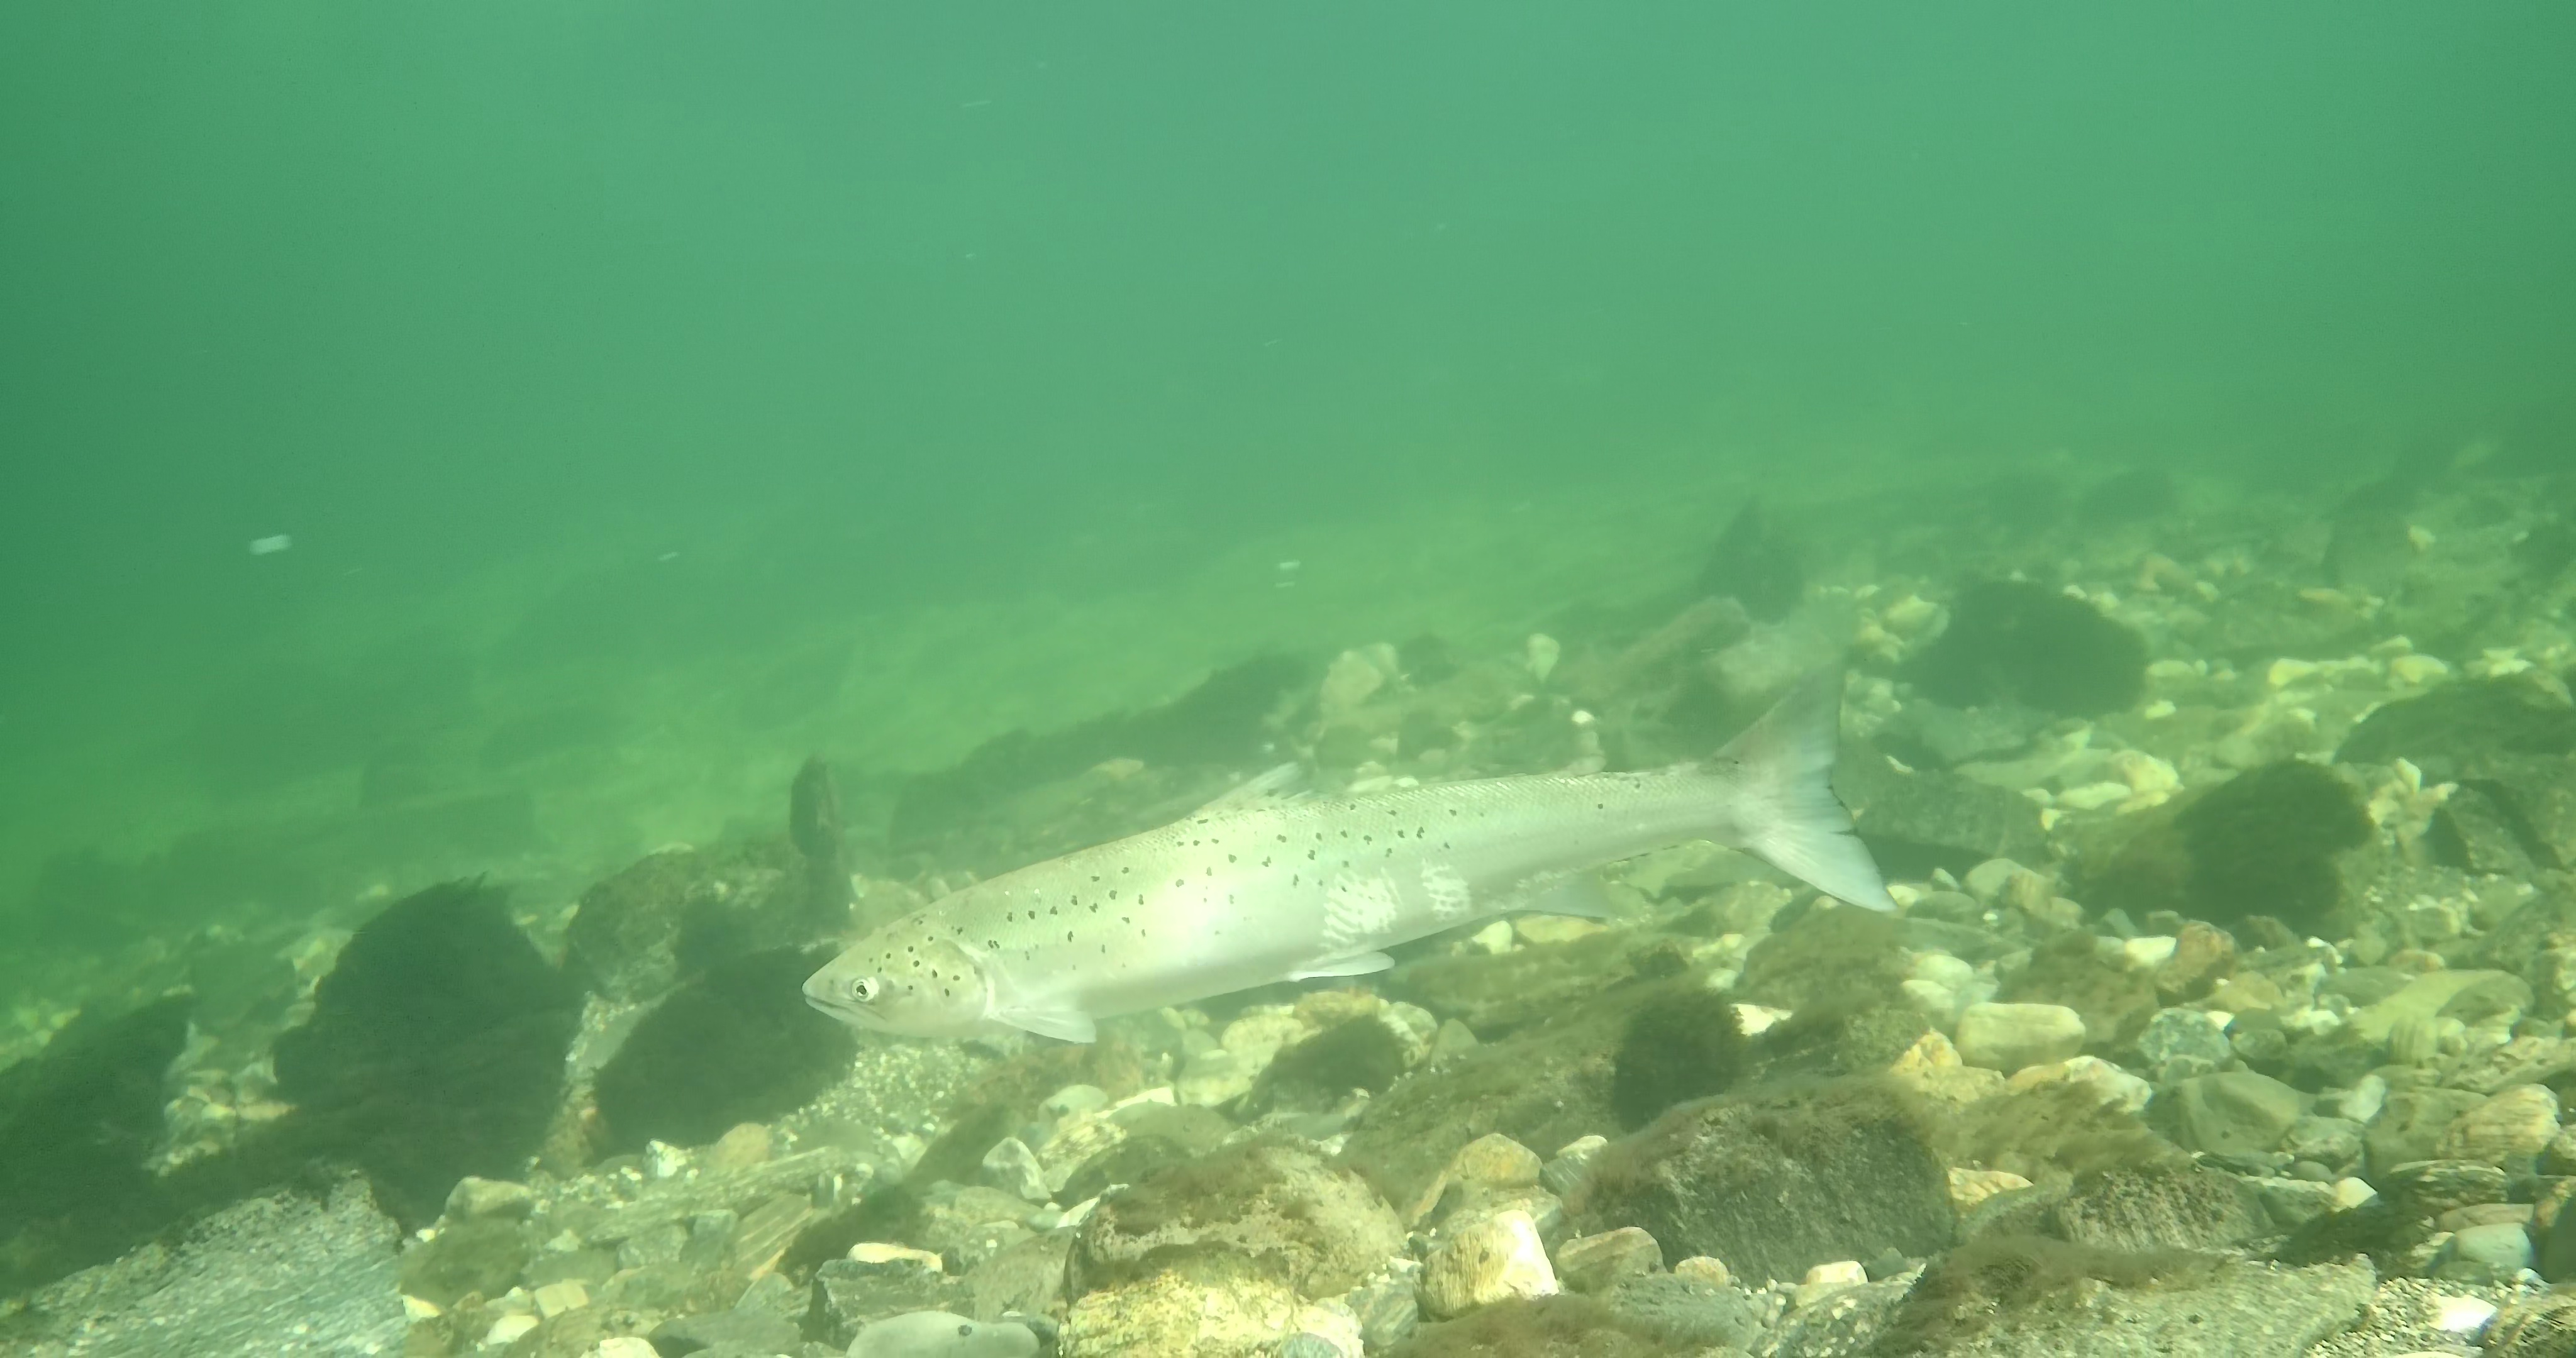salmon: (799, 656, 1900, 1046)
